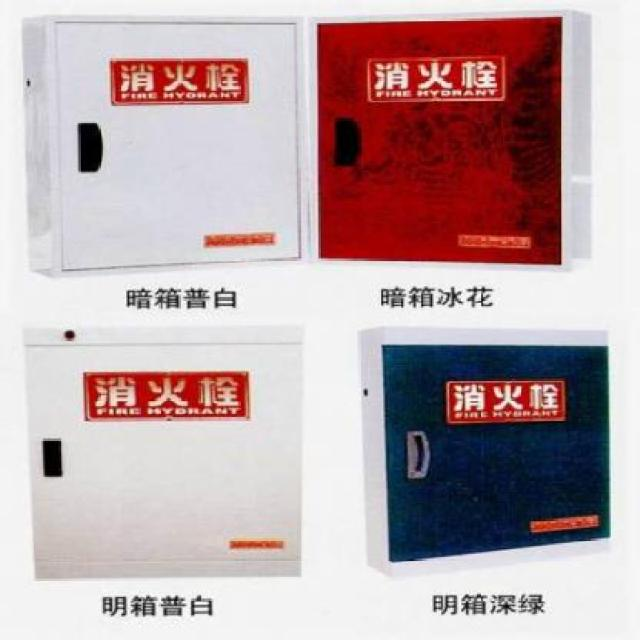firehydrant: (15, 6, 308, 285), (306, 6, 603, 277), (18, 317, 312, 587), (351, 320, 619, 583)
